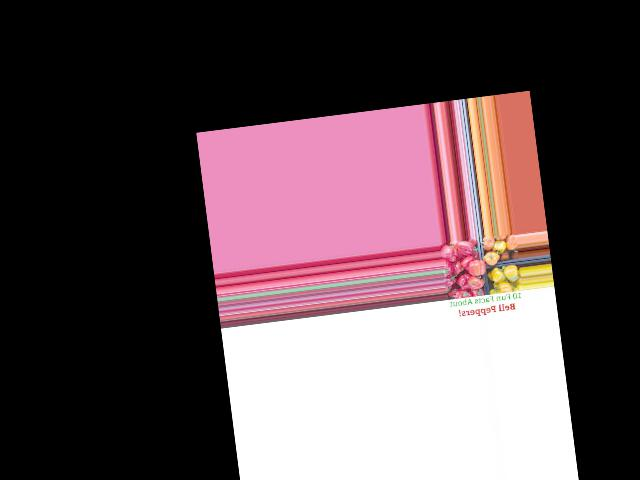bell_pepper: (453, 285, 476, 301)
